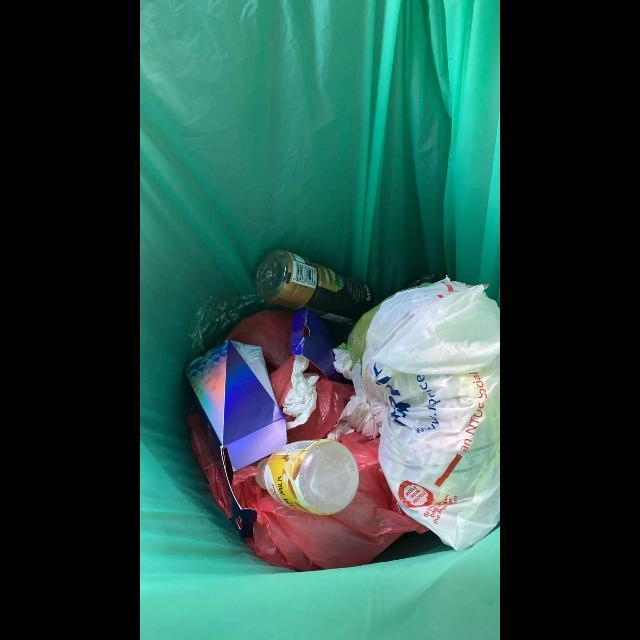paper: (183, 340, 288, 538), (283, 354, 319, 430)
plastic: (337, 274, 500, 551), (254, 249, 374, 323), (255, 439, 359, 515)
